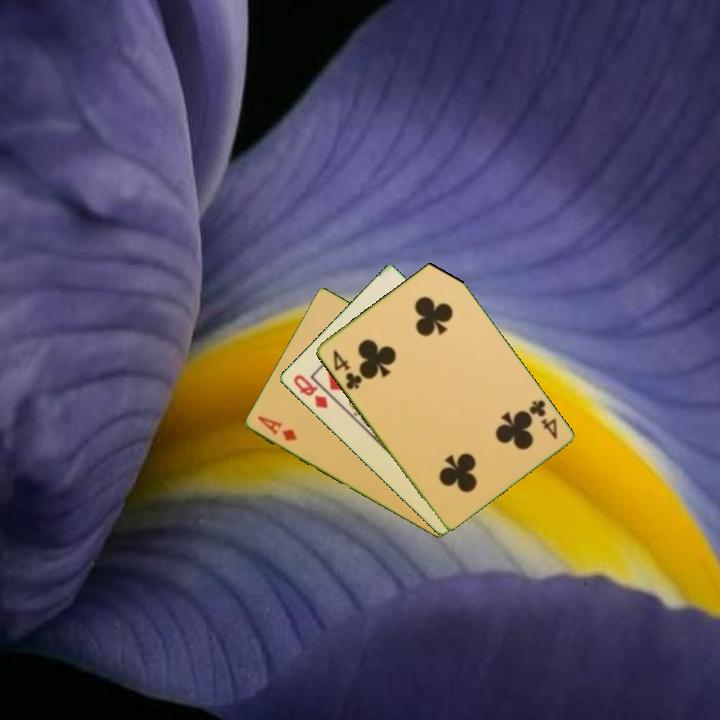4c: (329, 346, 365, 393), (525, 396, 560, 442)
Ad: (254, 412, 299, 444)
Qd: (289, 371, 330, 412)
